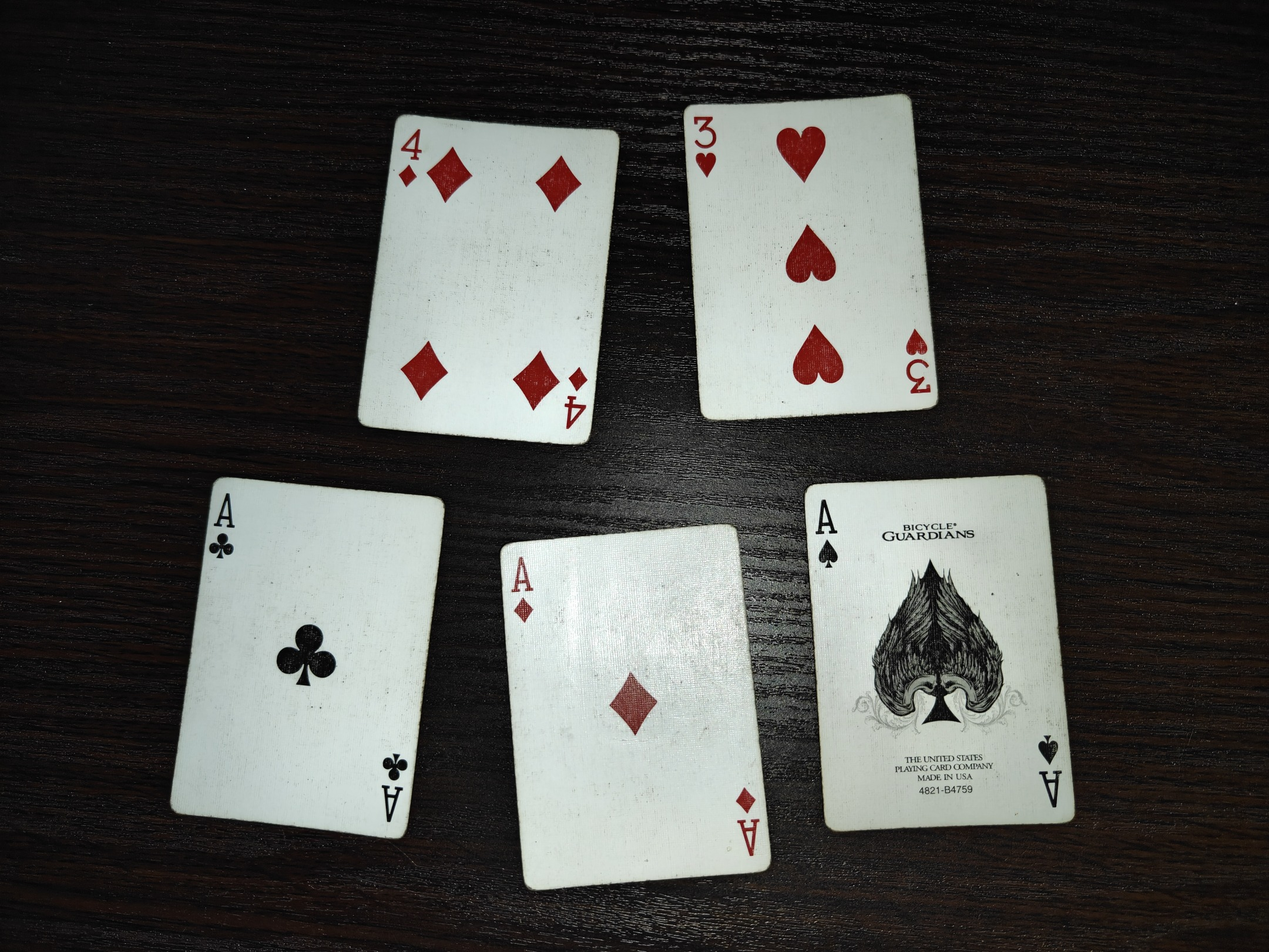3H: (684, 92, 941, 419)
4D: (358, 116, 621, 446)
AC: (169, 476, 447, 840)
AD: (499, 522, 771, 891)
AS: (805, 471, 1076, 832)
